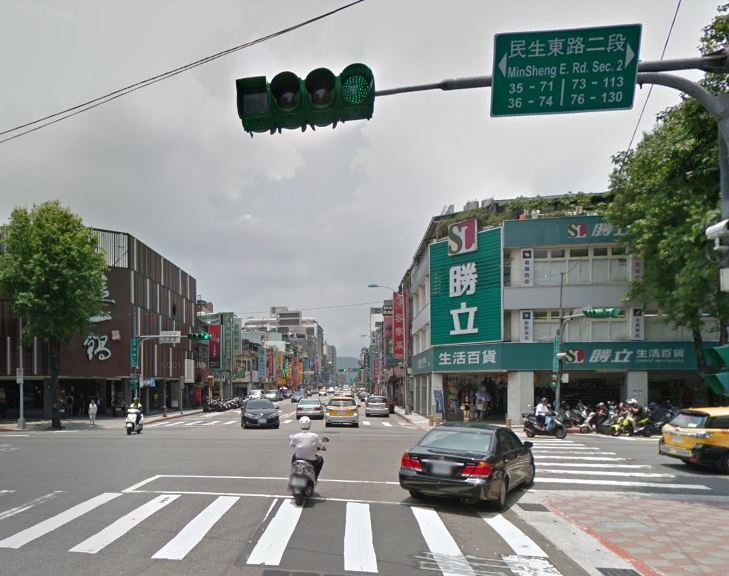Traffic_light_green: (231, 59, 378, 136)
car: (399, 417, 539, 517), (239, 397, 281, 429)
motorcycle: (285, 432, 334, 504), (125, 405, 144, 435)
